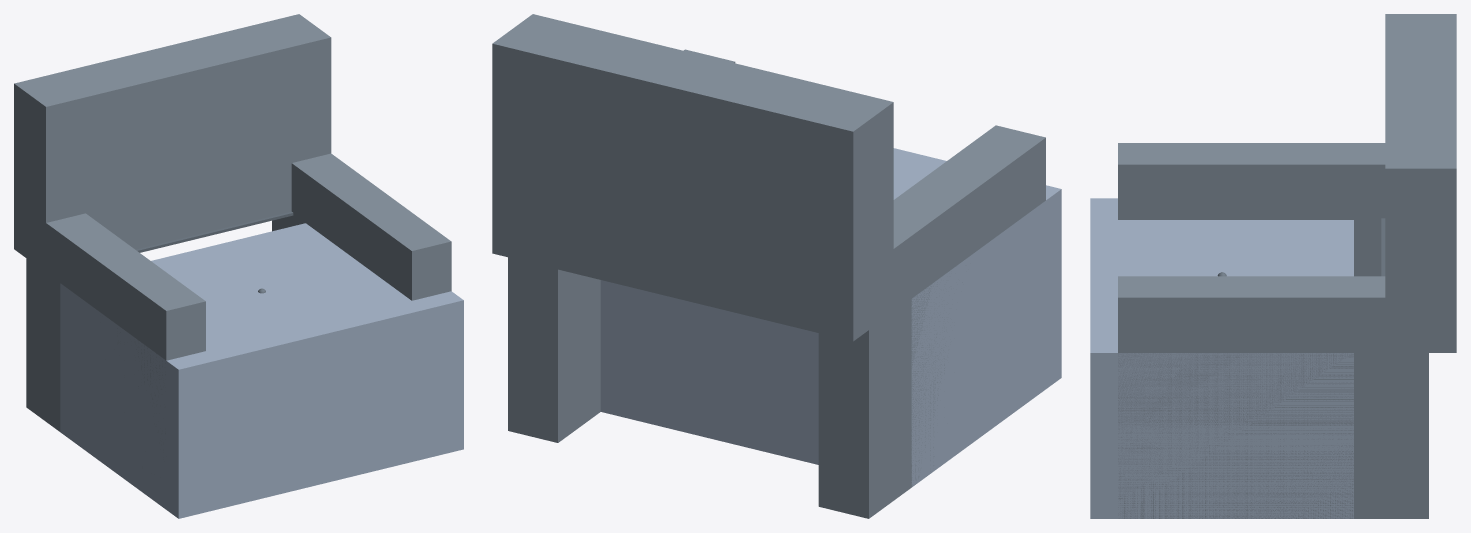
Rendered from armchair.glb.
3 renders of one model, left to right at view 1: azimuth 30°, elevation 25°; view 2: azimuth 150°, elevation 25°; view 3: azimuth 270°, elevation 25°, orthographic. The views are drawn at different scales.
Visible parts, largest first — view 1: seat, back, arm_left, arm_right, seat_back_seam; view 2: back, seat, arm_left, arm_right; view 3: seat, arm_right, back, arm_left.
Boxes of the visible parts, box(x1,y1,x2,y2) form: seat: box(60, 223, 463, 518); back: box(14, 14, 331, 272); arm_left: box(26, 213, 205, 433); arm_right: box(272, 153, 451, 300); seat_back_seam: box(136, 211, 293, 252); back: box(492, 14, 893, 341); seat: box(600, 148, 1061, 486); arm_left: box(818, 125, 1045, 518); arm_right: box(508, 49, 735, 442); seat: box(1090, 198, 1353, 518); arm_right: box(1118, 276, 1428, 518); back: box(1385, 14, 1456, 352); arm_left: box(1118, 143, 1385, 276).
Size of the model in its own units: 0.9144 by 0.9652 by 0.9144.
